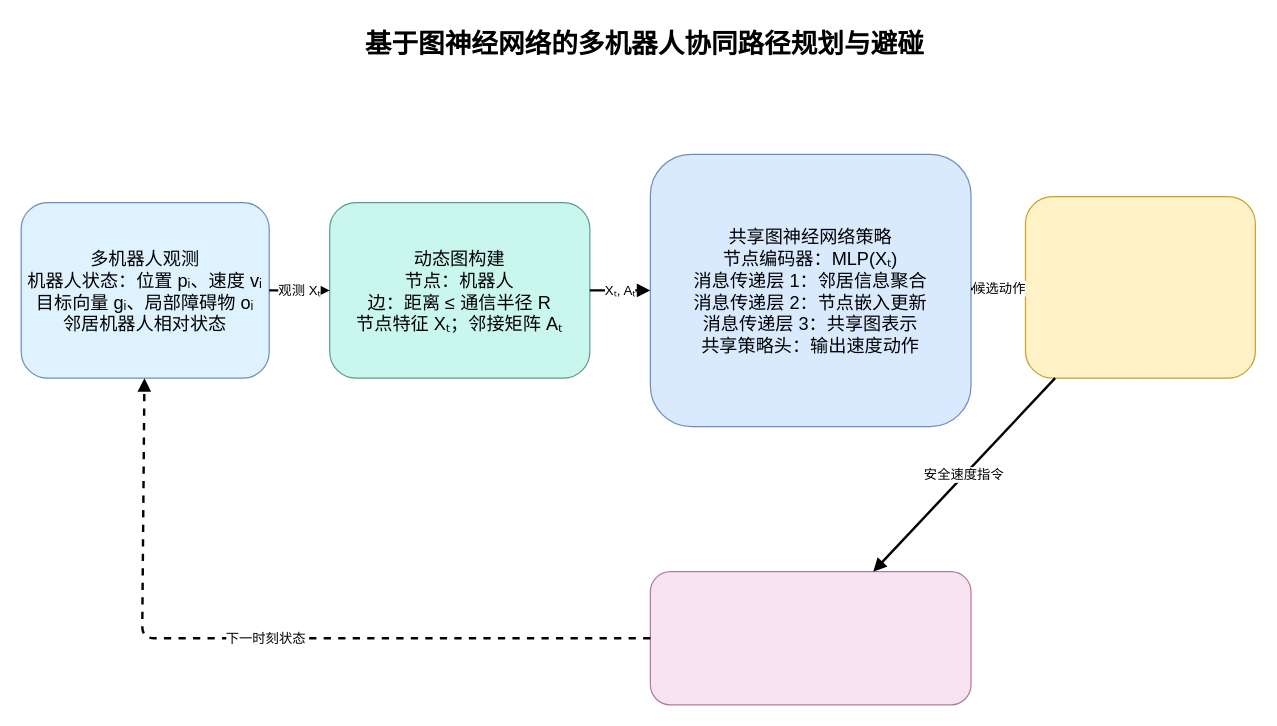
This 1277x726 diagram has some shape labels left out. The shapes that lost their labels are listed below. From the top down, each one's centre as x and y in pixels, then its label:
At (x=1139, y=286): "安全过滤器 碰撞检查 速度裁剪 ORCA 风格修正".
At (x=810, y=638): "多机器人环境 物理步进、障碍物与目标 奖励和性能指标".
